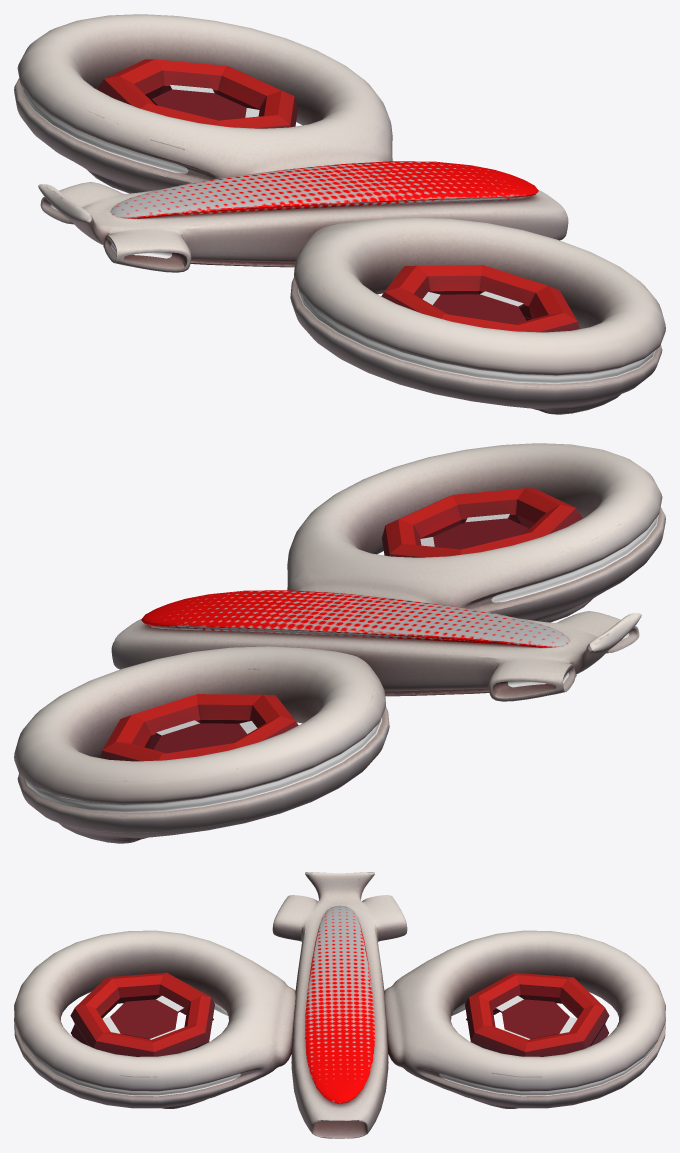
The model's file is Drone_2.fbx.
3 views of the same model, one above another, from view 1: azimuth 30°, elevation 25°; view 2: azimuth 150°, elevation 25°; view 3: azimuth 270°, elevation 25° (orthographic). The views are drawn at different scales.
Visible parts, largest first — view 1: Cube, Cube.002, Cube.001; view 2: Cube, Cube.001, Cube.002; view 3: Cube, Cube.001, Cube.002.
Part boxes in pixels (left/top/right/bottom): Cube: left=14, top=14, right=665, bottom=414; Cube.002: left=97, top=59, right=297, bottom=128; Cube.001: left=381, top=265, right=579, bottom=332; Cube: left=14, top=443, right=665, bottom=843; Cube.001: left=382, top=488, right=582, bottom=557; Cube.002: left=100, top=694, right=298, bottom=761; Cube: left=14, top=872, right=665, bottom=1138; Cube.001: left=70, top=972, right=214, bottom=1056; Cube.002: left=465, top=972, right=609, bottom=1056.
Size of the model in its own units: 704 by 210 by 1154.
